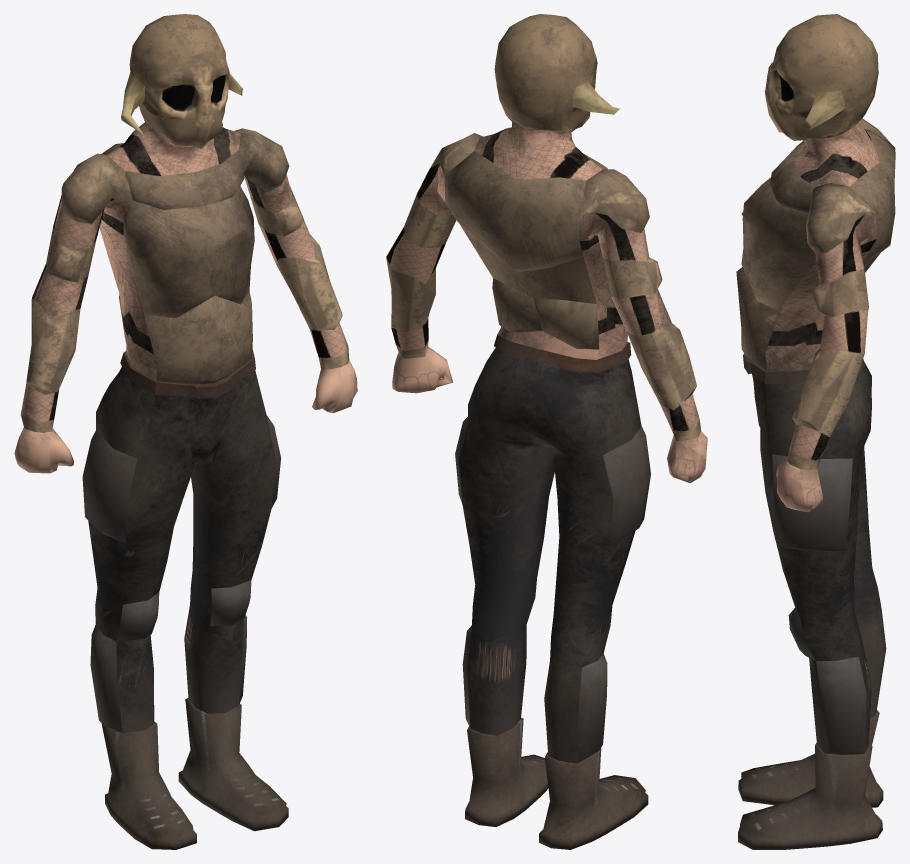
The model's file is Anim_interruptor_npc1.0014.obj.
The picture shows the model from 3 angles, left to right: view 1: azimuth 30°, elevation 25°; view 2: azimuth 150°, elevation 25°; view 3: azimuth 270°, elevation 25°; orthographic projection.
Parts seen in each view (by area): view 1: NPC2; view 2: NPC2; view 3: NPC2.
Boxes of the visible parts, left/top/right/bottom form: NPC2: left=14, top=14, right=357, bottom=849; NPC2: left=386, top=14, right=707, bottom=849; NPC2: left=736, top=14, right=895, bottom=849.
Size of the model in its own units: 4.12 by 9.67 by 1.75.
